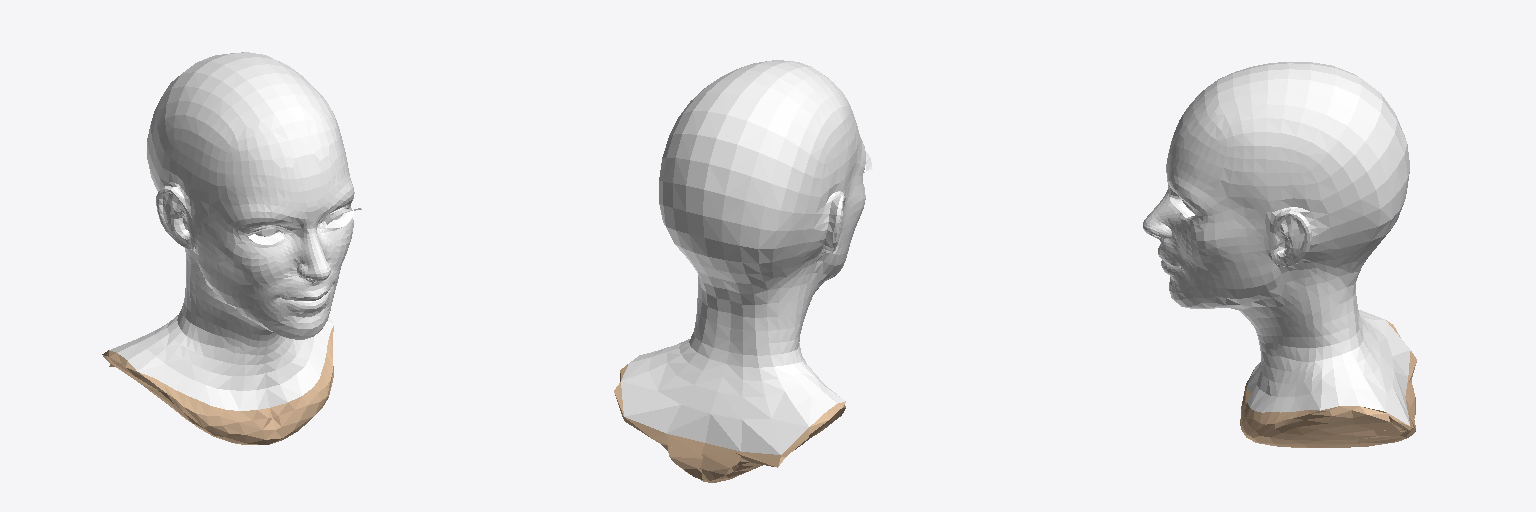
Rendered from mujer2.obj.
3 views of the same model, side by side, from view 1: azimuth 30°, elevation 25°; view 2: azimuth 150°, elevation 25°; view 3: azimuth 270°, elevation 25° (orthographic).
Parts seen in each view (by area): view 1: Body, Eyelashes; view 2: Body; view 3: Body.
Part boxes in pixels (bbox=[...]): Body: bbox=[110, 52, 354, 410]; Eyelashes: bbox=[246, 208, 361, 244]; Body: bbox=[621, 60, 865, 454]; Body: bbox=[1143, 62, 1410, 425].
Bounding box in the file's own units: 19.53 × 33.43 × 22.25.